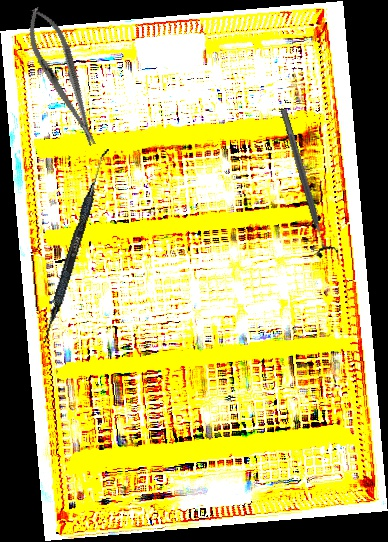Fixation Ring: (272, 105, 340, 260)
Needle Holder: (17, 1, 109, 153)
Spatula Surgical: (41, 146, 109, 346)
